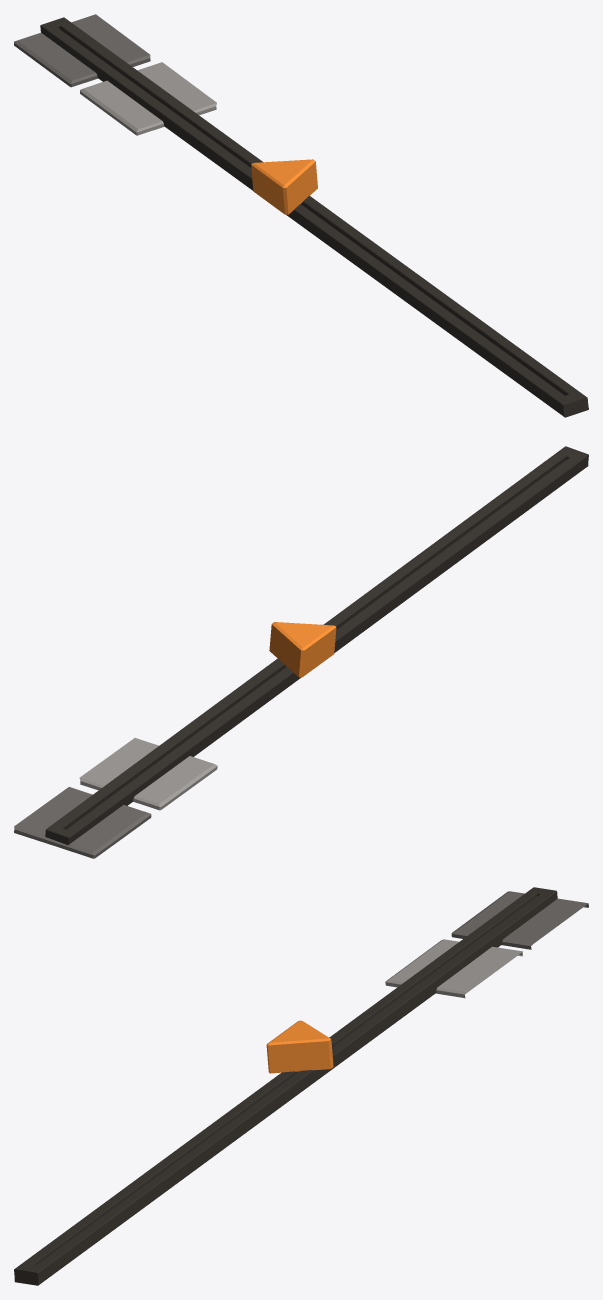
The model's file is NudgeTrack.fbx.
The picture shows the model from 3 angles, top to bottom: view 1: azimuth 30°, elevation 25°; view 2: azimuth 150°, elevation 25°; view 3: azimuth 330°, elevation 25°; orthographic projection.
Parts seen in each view (by area): view 1: nudgeTrack, lightSpot, darkSpot, nudgeSelector; view 2: nudgeTrack, darkSpot, lightSpot, nudgeSelector; view 3: nudgeTrack, lightSpot, darkSpot, nudgeSelector.
Part boxes in pixels (left/top/right/bottom): nudgeTrack: left=40, top=17, right=588, bottom=417; lightSpot: left=80, top=62, right=216, bottom=135; darkSpot: left=14, top=14, right=150, bottom=87; nudgeSelector: left=251, top=159, right=317, bottom=214; nudgeTrack: left=45, top=446, right=588, bottom=845; darkSpot: left=14, top=787, right=151, bottom=858; lightSpot: left=79, top=738, right=217, bottom=810; nudgeSelector: left=269, top=622, right=336, bottom=677; nudgeTrack: left=14, top=887, right=557, bottom=1285; lightSpot: left=385, top=939, right=522, bottom=998; darkSpot: left=451, top=891, right=588, bottom=949; nudgeSelector: left=266, top=1020, right=333, bottom=1073.
Size of the model in its own units: 0.0755 by 0.0415 by 0.8324.
